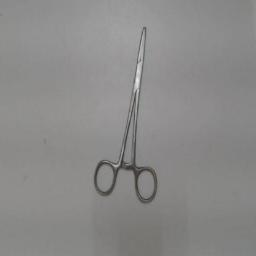Mayo Needle Holder: (89, 17, 163, 209)
